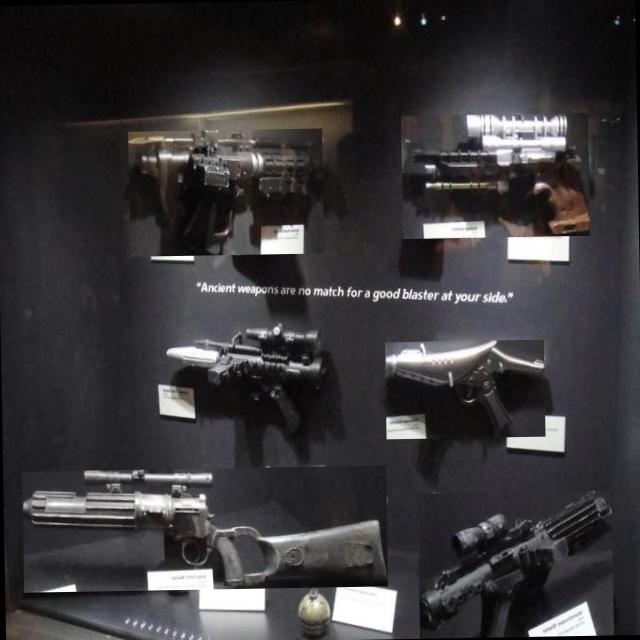Gun: (23, 470, 388, 588), (420, 490, 611, 637), (128, 130, 322, 255), (402, 114, 589, 236), (386, 340, 544, 437), (166, 323, 323, 384)
